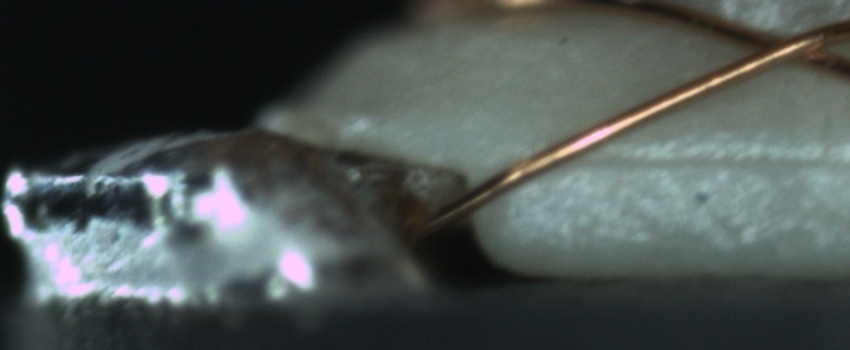CL: (715, 16, 842, 75)
DL: (554, 124, 845, 192)
